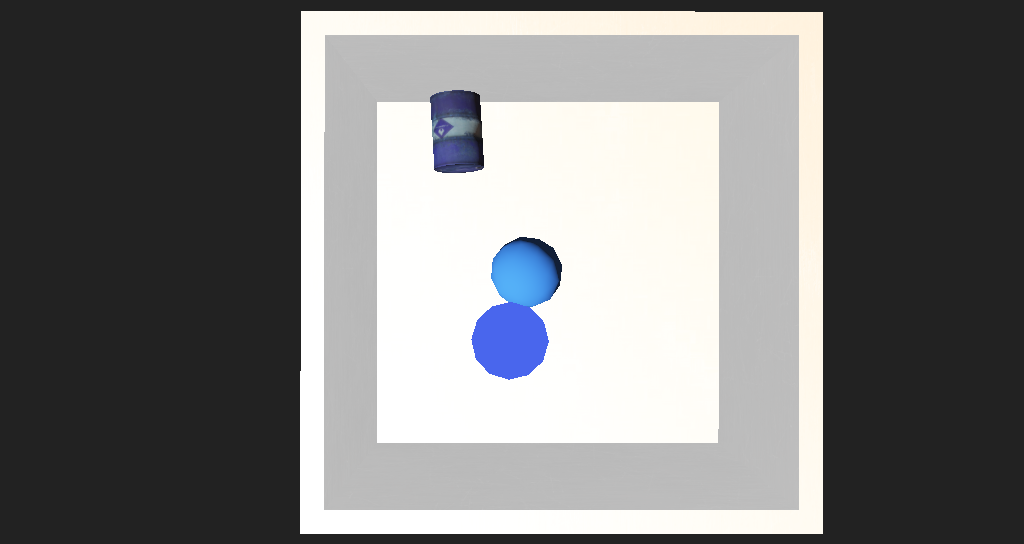cone: (397, 155, 451, 208)
cylinder: (441, 289, 502, 341)
sphere: (451, 243, 519, 291)
